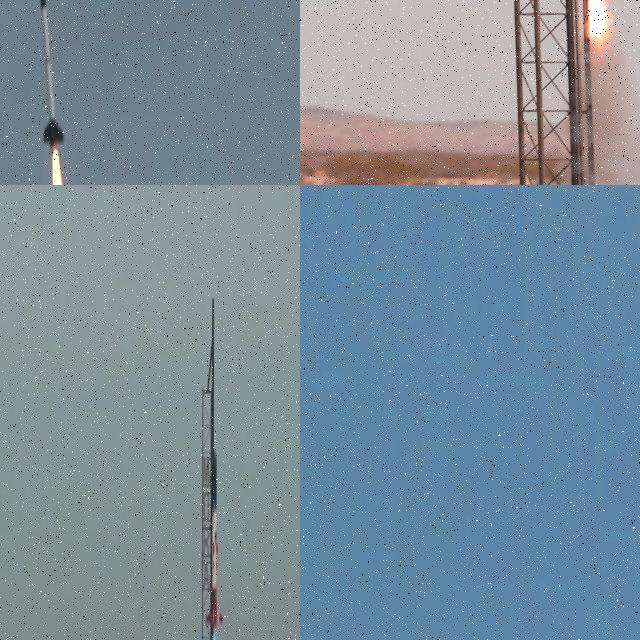Rocket: (37, 0, 64, 153), (207, 451, 222, 640)
